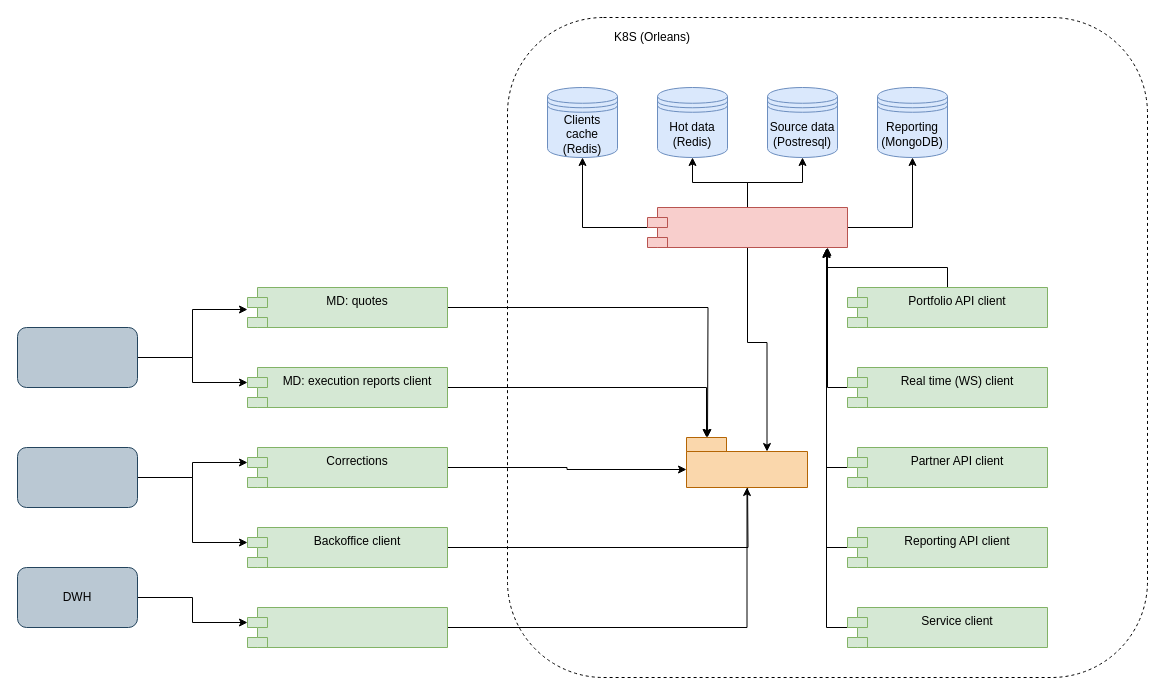
Image size: 1165x695. Some labels were removed from this diagram. Here are the shapes that lost their labels. From the top down, the box of each, then its label:
(646, 206, 848, 248): Math core (Silo)
(16, 326, 138, 388): QUIK
(16, 446, 138, 508): BORR
(686, 436, 808, 488): Kafka
(246, 606, 448, 648): Trades history client
